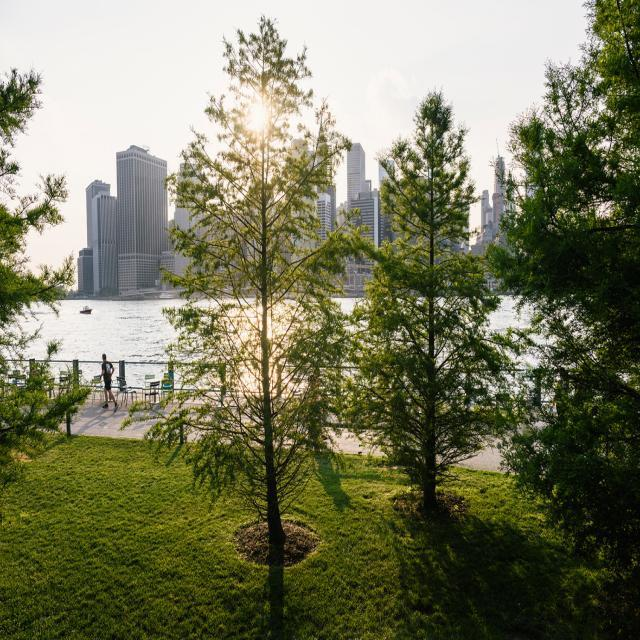tree: (120, 6, 378, 570), (477, 1, 640, 573), (344, 85, 518, 526), (1, 58, 94, 510)
